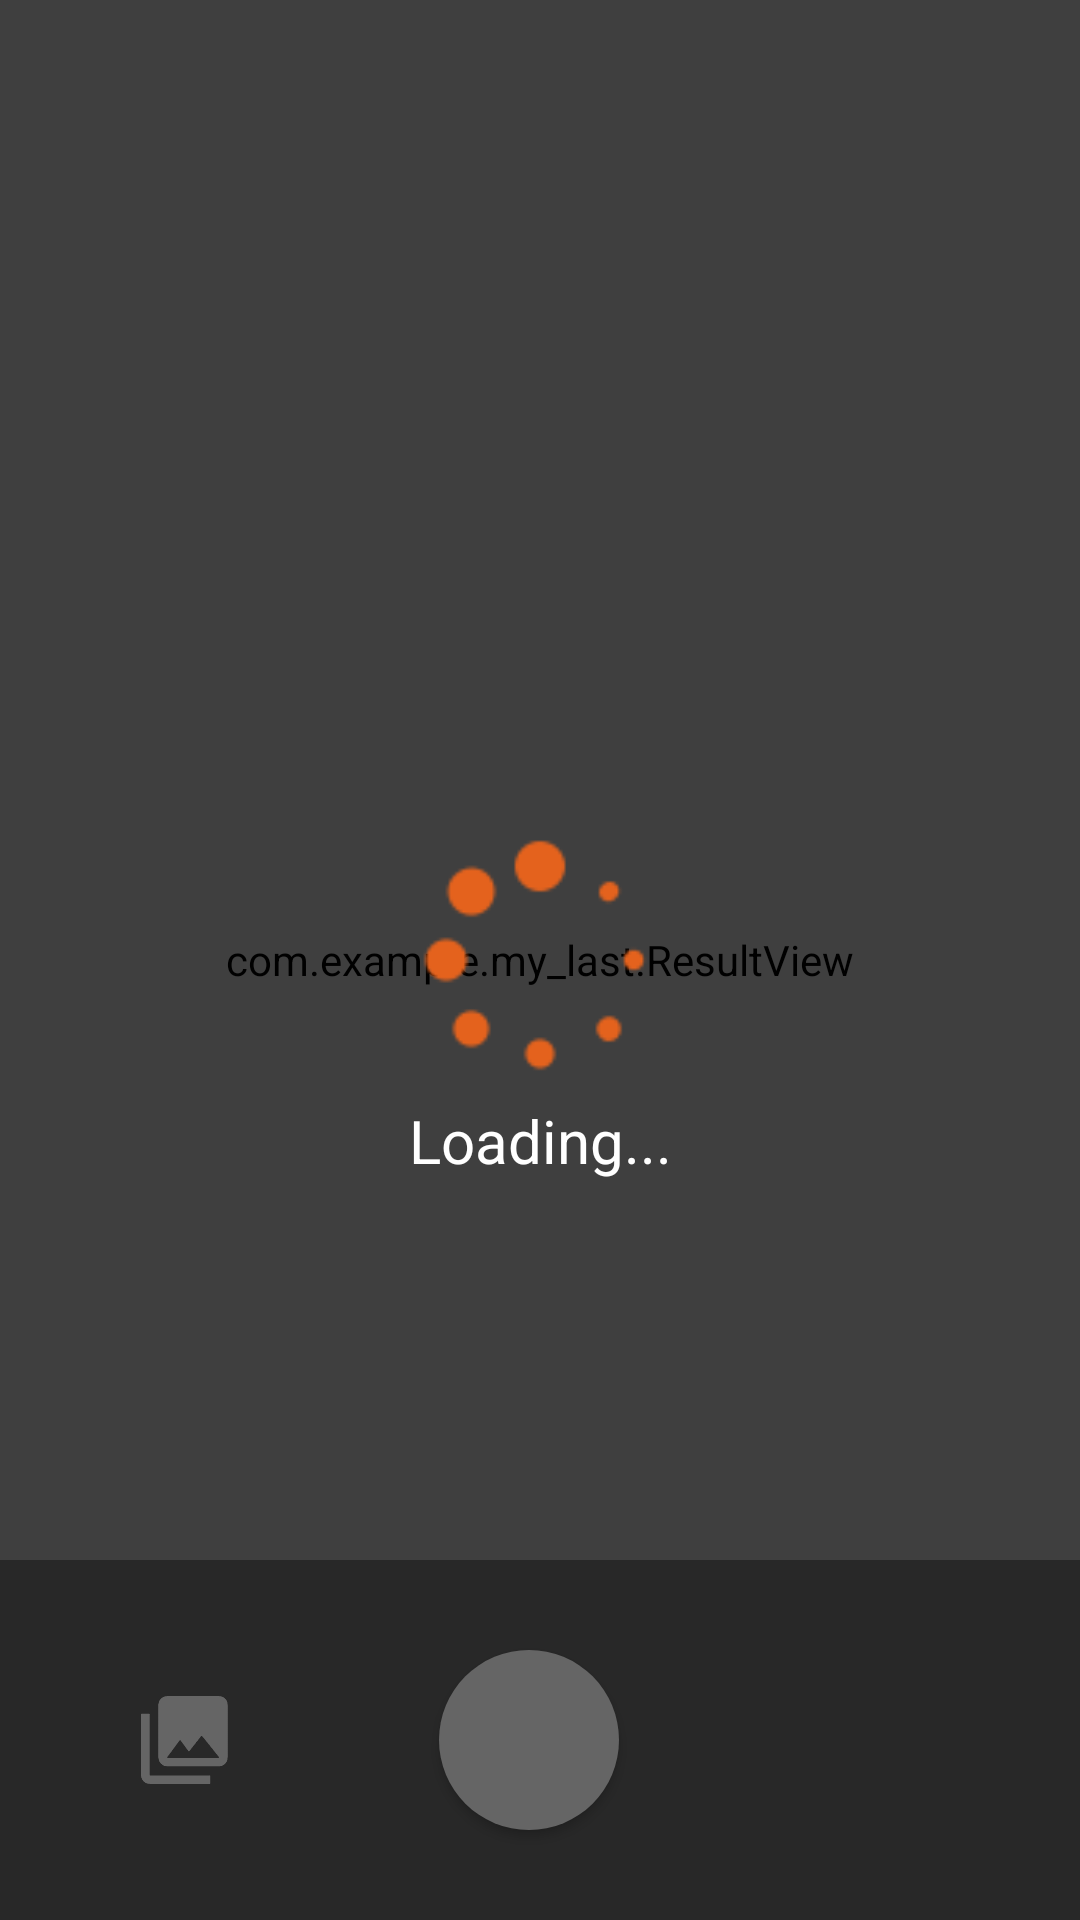

Locate icon controls on the screen. Image size 1080w x 1920h, boxes as (x1, y1, x2, y2).
gallery: (141, 1696, 228, 1784)
